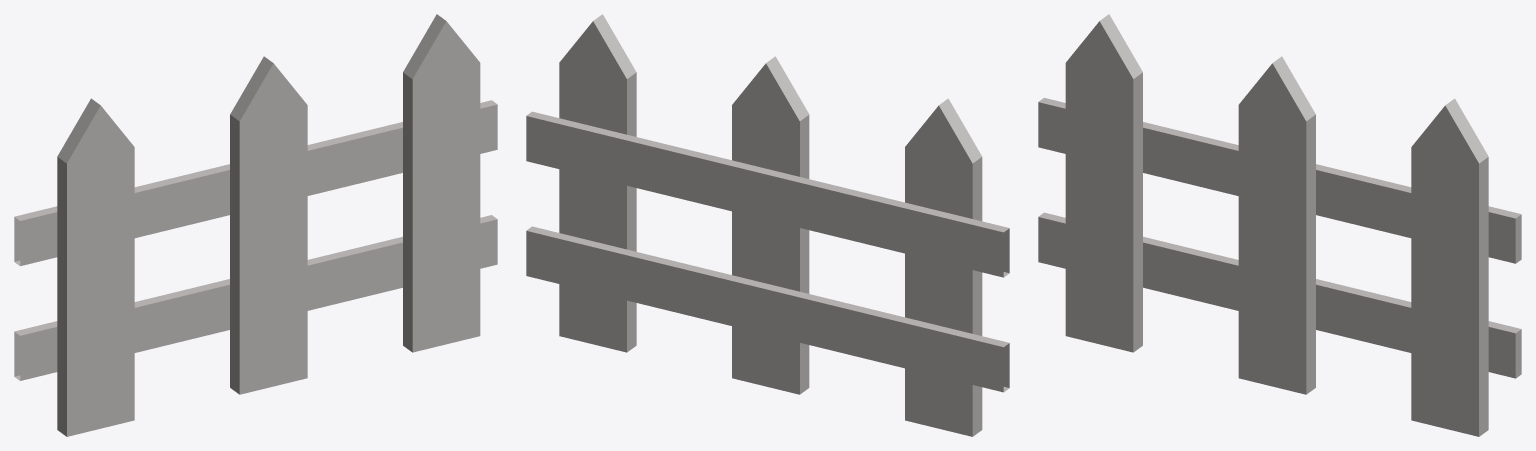
The model's file is Fence Tile_14.fbx.
3 renders of one model, left to right at view 1: azimuth 30°, elevation 25°; view 2: azimuth 150°, elevation 25°; view 3: azimuth 330°, elevation 25°, orthographic.
Visible parts, largest first — view 1: Fence Tile_14; view 2: Fence Tile_14; view 3: Fence Tile_14.
Part boxes in pixels (left/top/right/bottom): Fence Tile_14: left=14, top=14, right=497, bottom=436; Fence Tile_14: left=526, top=14, right=1009, bottom=436; Fence Tile_14: left=1038, top=14, right=1521, bottom=436.
Bounding box in the file's own units: 189 × 122 × 10.68.
